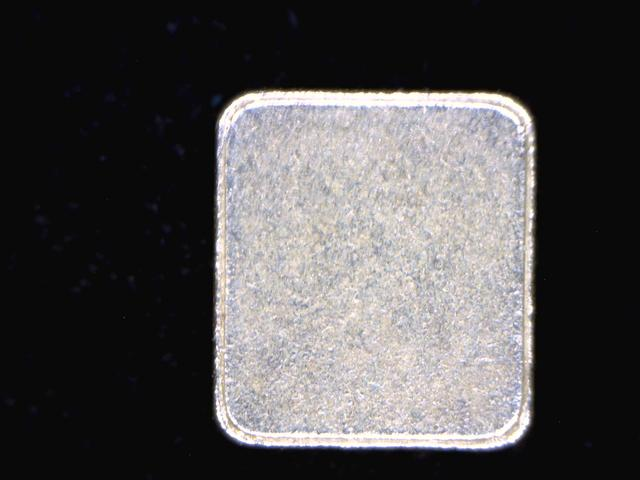nok: (209, 82, 545, 452)
